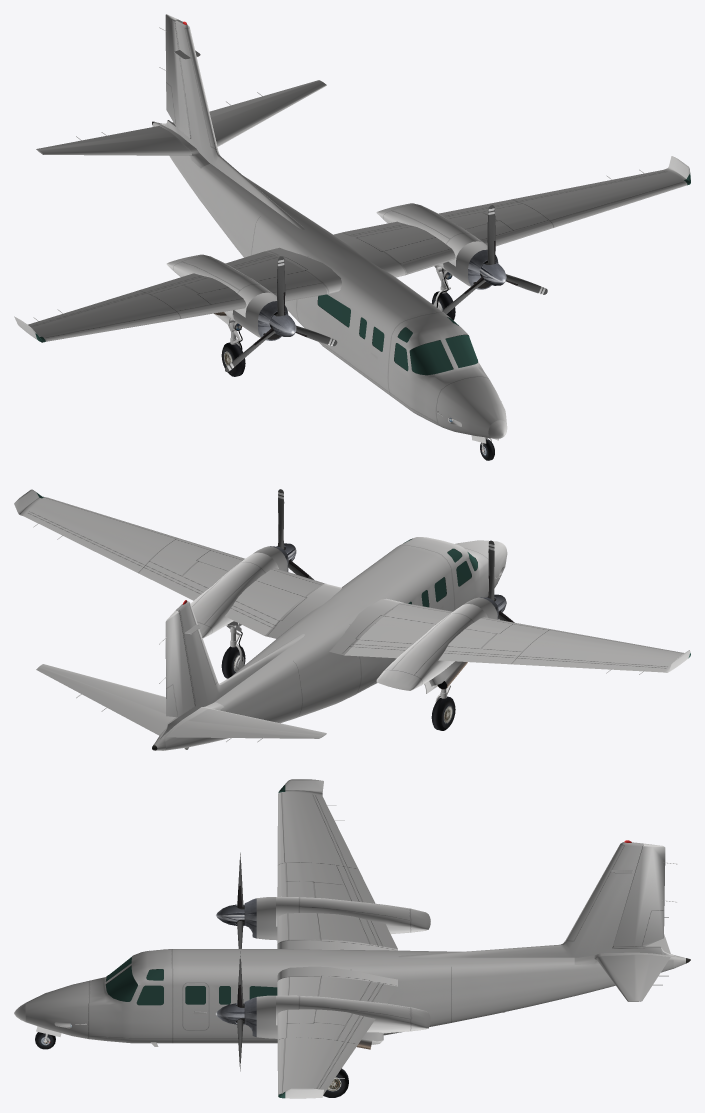
3 renders of one model, top to bottom at view 1: azimuth 30°, elevation 25°; view 2: azimuth 150°, elevation 25°; view 3: azimuth 270°, elevation 25°, orthographic. The views are drawn at different scales.
Visible parts, largest first — view 1: ac69_boneyard_obj; view 2: ac69_boneyard_obj; view 3: ac69_boneyard_obj.
Part boxes in pixels (x1,y1,x2,y2): ac69_boneyard_obj: (14, 14, 690, 460); ac69_boneyard_obj: (14, 489, 690, 750); ac69_boneyard_obj: (14, 779, 690, 1098).
Size of the model in its own units: 13.7 by 4.31 by 12.67.
2 materials, 2 textured.
